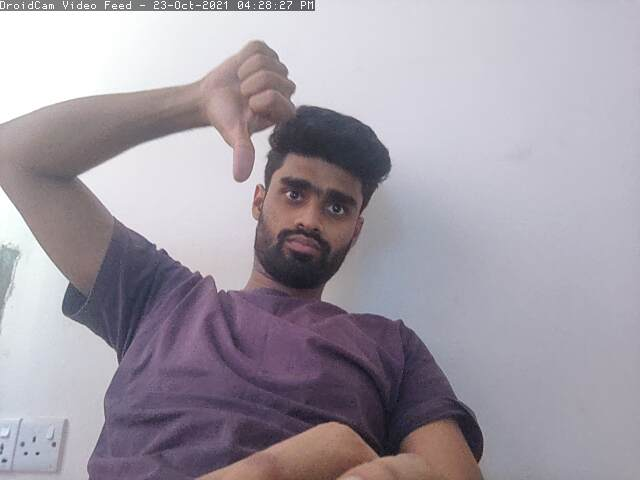ThumbsDown: (193, 37, 300, 181)
